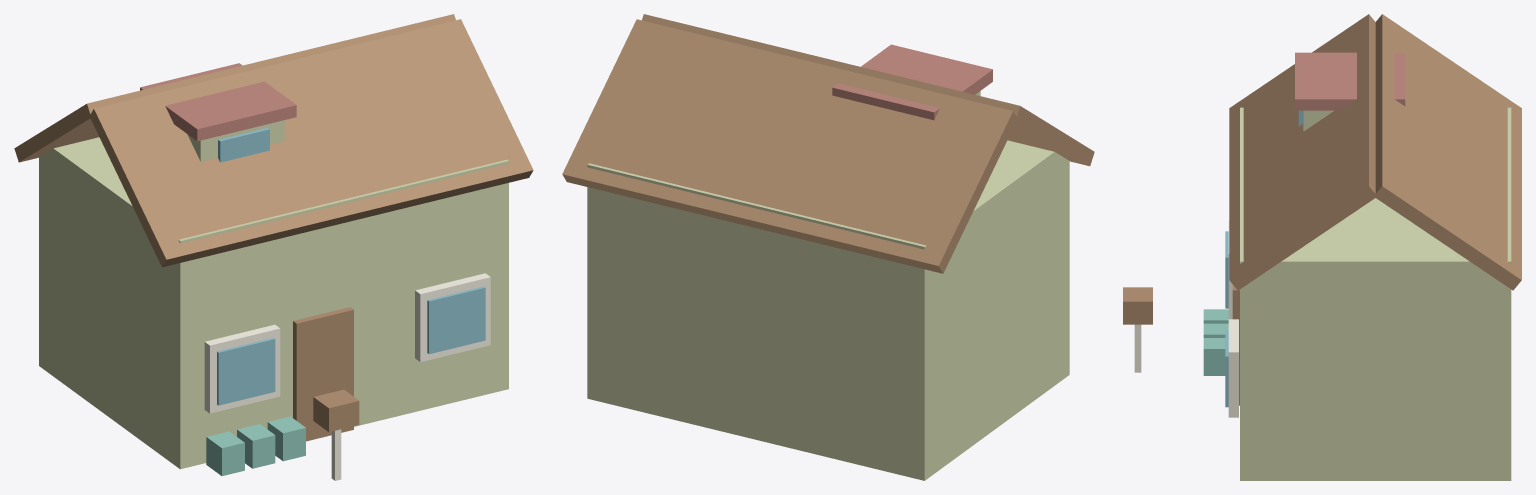
Rendered from home-11.glb.
3 views of the same model, side by side, from view 1: azimuth 30°, elevation 25°; view 2: azimuth 150°, elevation 25°; view 3: azimuth 270°, elevation 25° (orthographic). The views are drawn at different scales.
Parts seen in each view (by area): view 1: dormer.002, front door.011, dormer window.002, letterbox post.008, dormer cap.002, flower planter.008; view 2: dormer.002, front door.011, dormer cap.002; view 3: dormer.002, front door.011, dormer cap.002, letterbox post.008, flower planter.008, dormer window.002.
Part boxes in pixels (x1,y1,x2,y2): dormer.002: (39, 120, 508, 469); front door.011: (14, 14, 533, 441); dormer window.002: (217, 127, 485, 405); letterbox post.008: (204, 273, 490, 480); dormer cap.002: (140, 63, 296, 141); flower planter.008: (206, 416, 305, 475); dormer.002: (587, 91, 1069, 480); front door.011: (562, 14, 1094, 273); dormer cap.002: (832, 44, 992, 120); dormer.002: (1240, 107, 1511, 480); front door.011: (1123, 14, 1521, 405); dormer cap.002: (1295, 52, 1405, 110); letterbox post.008: (1134, 221, 1238, 417); flower planter.008: (1203, 309, 1232, 375); dormer window.002: (1225, 110, 1302, 407).
Bounding box in the file's own units: 4.8 × 3.95 × 4.7.
